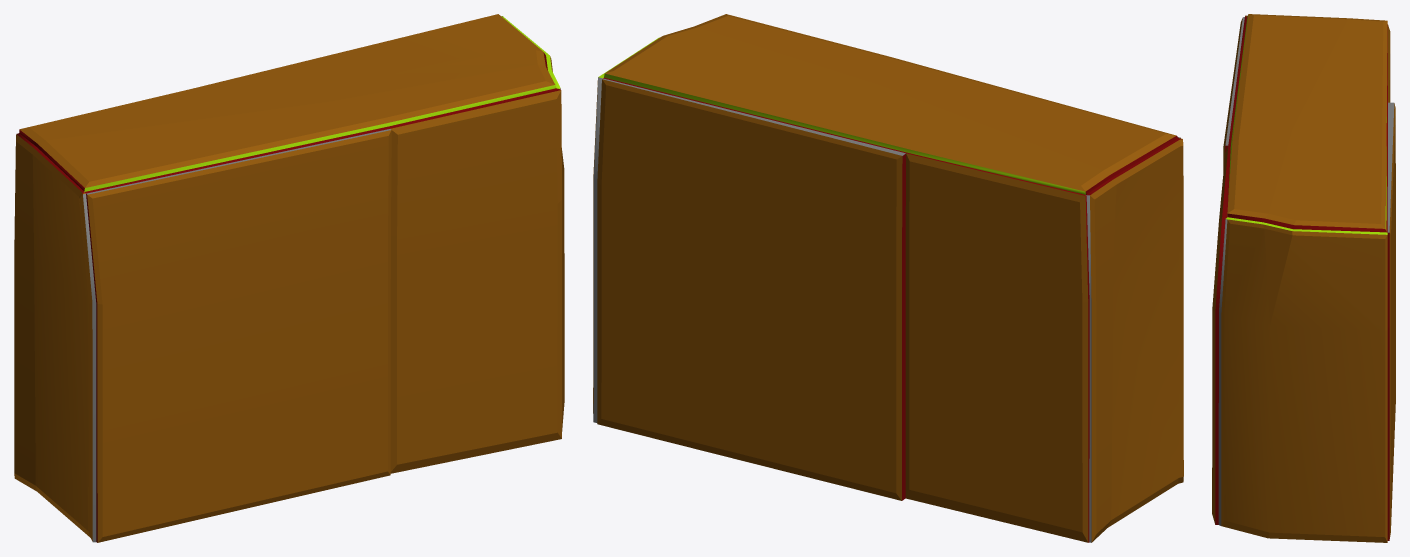
File: Tierracuadrada.fbx
The picture shows the model from 3 angles, left to right: view 1: azimuth 30°, elevation 25°; view 2: azimuth 150°, elevation 25°; view 3: azimuth 270°, elevation 25°; orthographic projection. The views are drawn at different scales.
Visible parts, largest first — view 1: Cylinder002; view 2: Cylinder002; view 3: Cylinder002.
Boxes of the visible parts, x1,y1,x2,y2 form: Cylinder002: (14,14,564,542); Cylinder002: (593,14,1183,542); Cylinder002: (1212,14,1395,542).
Size of the model in its own units: 10.9 by 3.83 by 7.21.
